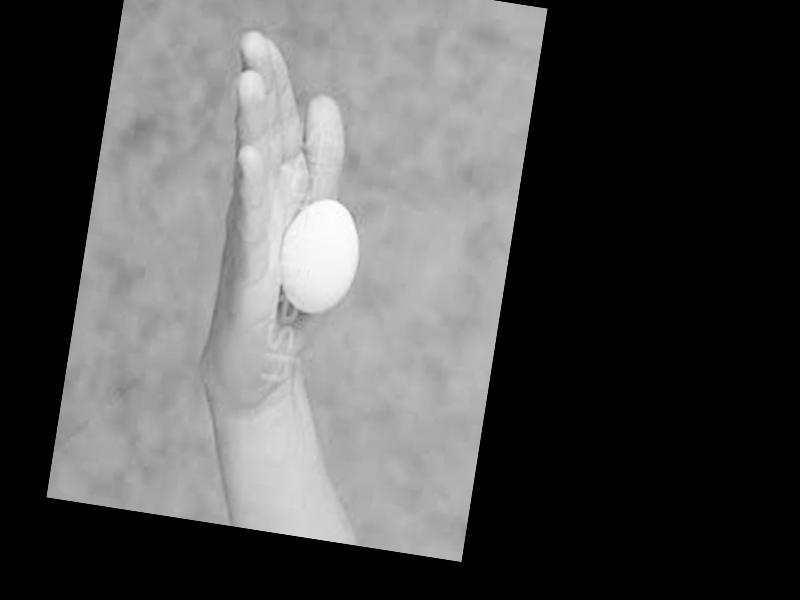Eggs: (272, 194, 368, 319)
